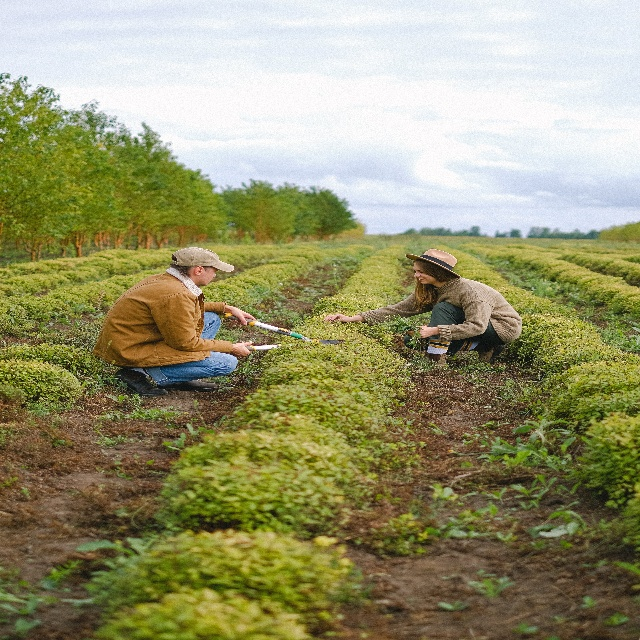Sin_guantes: (229, 305, 256, 327), (231, 339, 253, 357), (323, 311, 349, 325), (414, 325, 433, 340)
